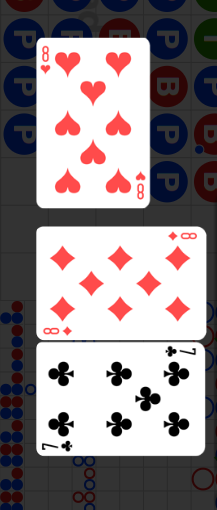7C: (40, 439, 75, 453)
8D: (166, 230, 198, 242)
8H: (40, 45, 53, 76)
